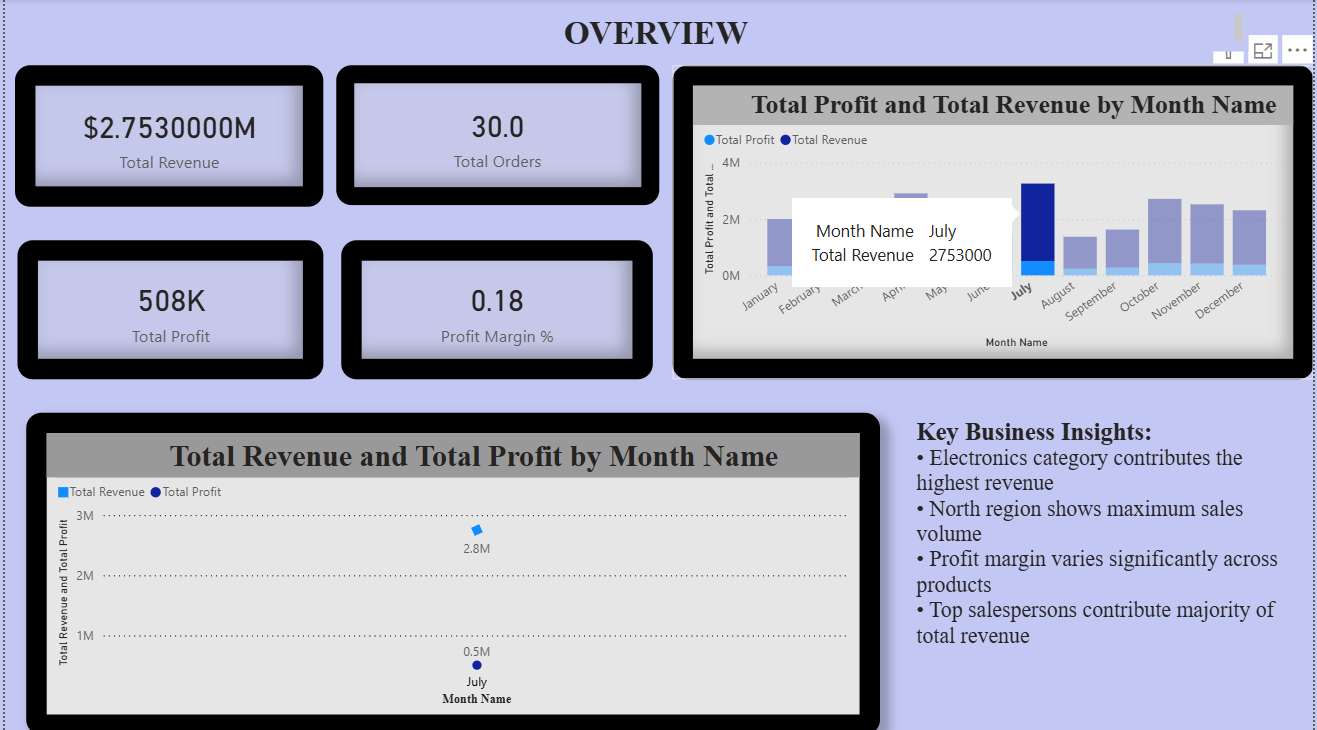

The dashboard page shown, as its layout file describes it:
{"tool":"powerbi","page":{"name":"OVERVIEW","canvas":[1280,720],"ordinal":0},"visuals":[{"type":"card","fields":{"Values":["Sales_Data_FIXED.Total Revenue"]},"box":[10,64.3,301.4,138.6],"z":0},{"type":"card","fields":{"Values":["Sales_Data_FIXED.Total Profit"]},"box":[12.2,236,299.6,135.7],"z":1000},{"type":"card","fields":{"Values":["Sales_Data_FIXED.Profit Margin %"]},"box":[328.9,236,304.5,135.7],"z":2000},{"type":"card","fields":{"Values":["Sales_Data_FIXED.Total Orders"]},"box":[324.3,64.3,315.7,137.1],"z":3000},{"type":"lineChart","fields":{"Y":["Sales_Data_FIXED.Total Revenue","Sales_Data_FIXED.Total Profit"],"Category":["Sales_Data_FIXED.Month Name"]},"box":[20.8,404.8,835.2,315.5],"z":4000},{"type":"columnChart","fields":{"Category":["Sales_Data_FIXED.Month Name"],"Y":["Sales_Data_FIXED.Total Profit","Sales_Data_FIXED.Total Revenue"]},"box":[653,64.8,627.3,306.9],"z":5000},{"type":"textbox","box":[65.7,10,1150,41.4],"z":6000},{"type":"textbox","box":[886.6,404.8,379.1,298.4],"z":6001}]}

Visuals, with their boxes in screenshot pixels (x1, y1, x2, y2), scaled from the page's 1280x720 canvas onto the 1317x730 screenshot:
card - Sales_Data_FIXED.Total Revenue: region(10, 65, 320, 206)
card - Sales_Data_FIXED.Total Profit: region(13, 239, 321, 377)
card - Sales_Data_FIXED.Profit Margin %: region(338, 239, 652, 377)
card - Sales_Data_FIXED.Total Orders: region(334, 65, 658, 204)
lineChart - Sales_Data_FIXED.Total Revenue x Sales_Data_FIXED.Total Profit: region(21, 410, 881, 729)
columnChart - Sales_Data_FIXED.Month Name x Sales_Data_FIXED.Total Profit: region(672, 66, 1316, 377)
textbox: region(68, 10, 1251, 52)
textbox: region(912, 410, 1302, 713)
